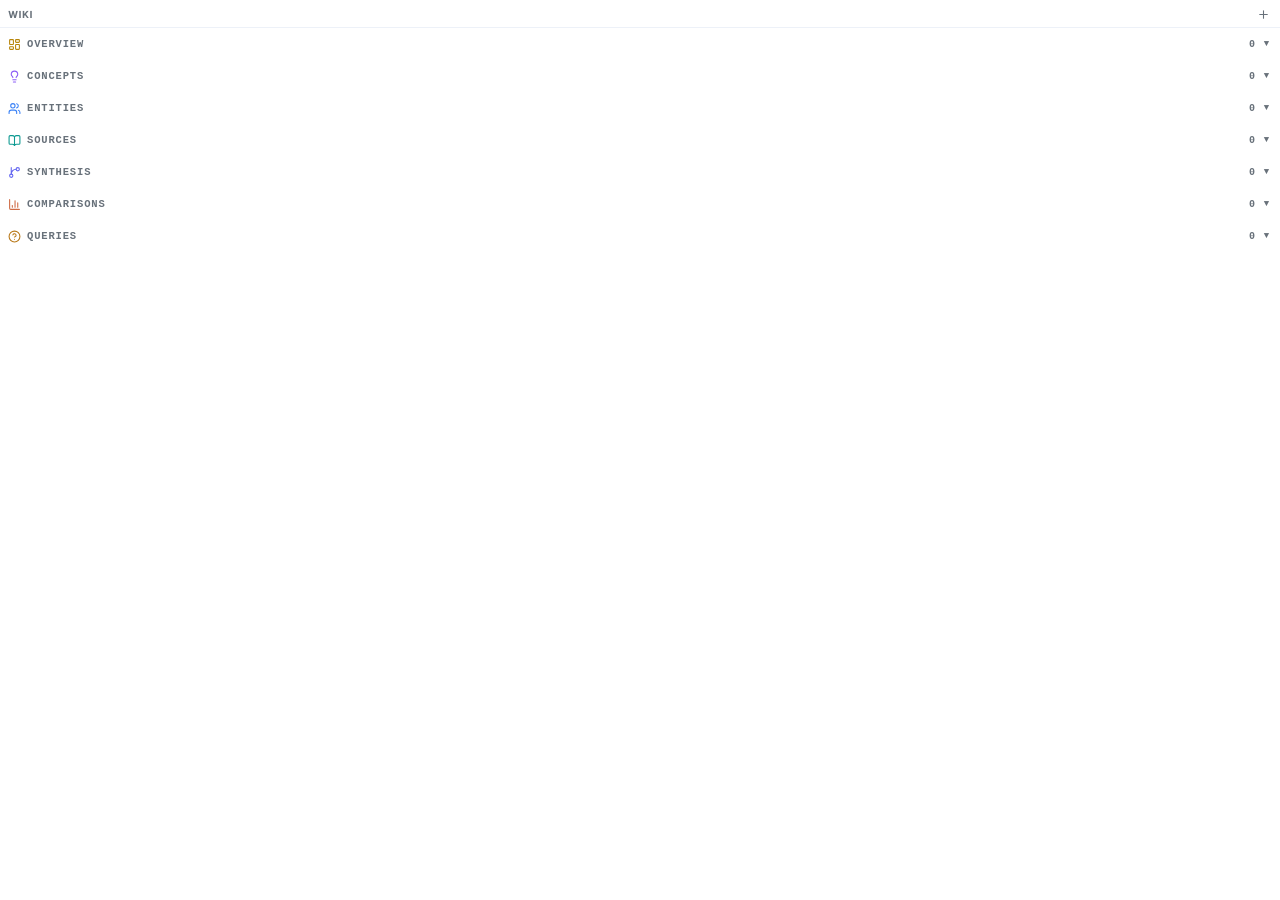
Scenario: NavTree — R7-2 New page modal › shows conflict error on 409 without closing modal
Step 1. Click the button with test id "nav-tree-new-page-btn" → (1264, 14), box 1255,6 -> 1272,23
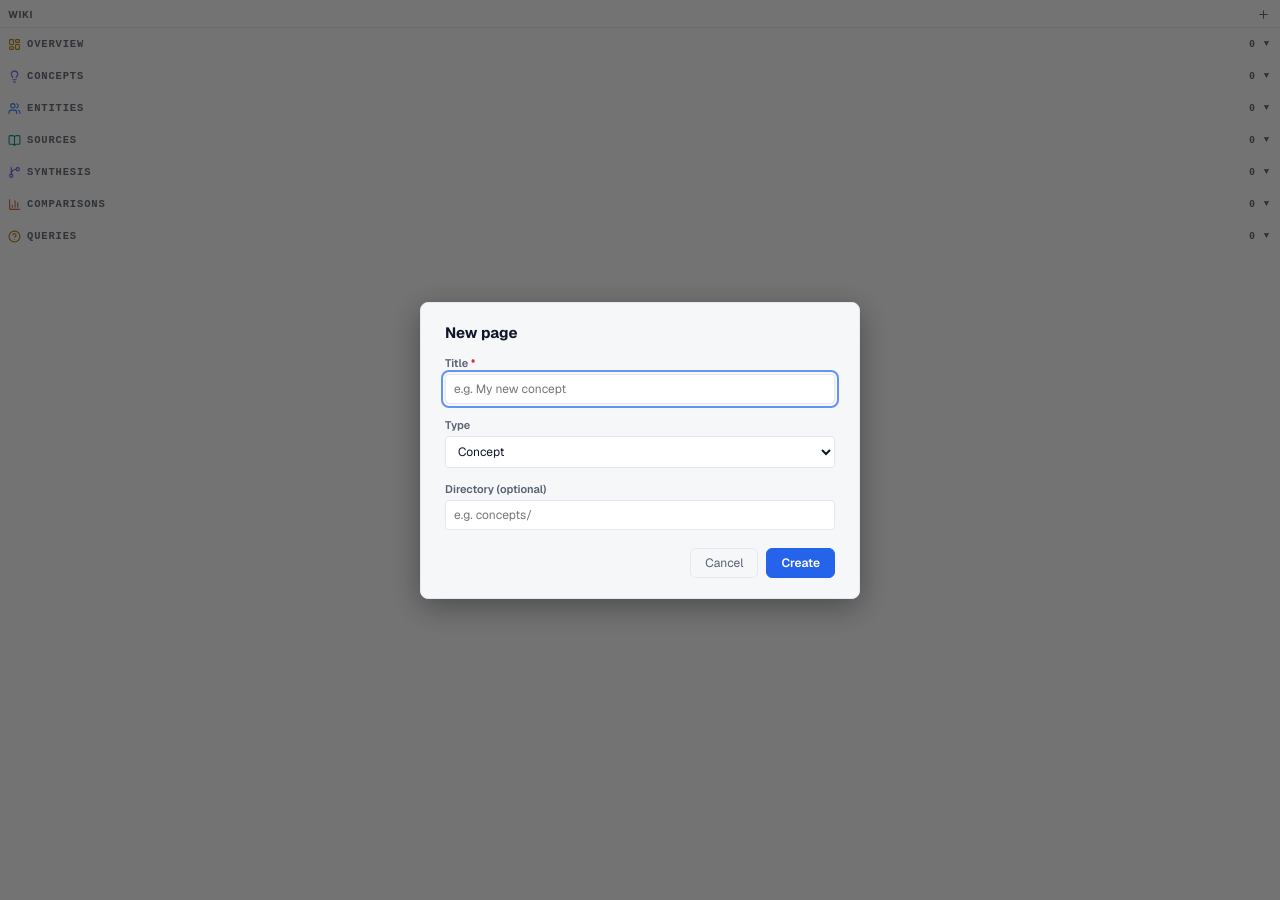
expect the field with placeholder "e.g. My new concept" is shown: met
Step 2. Type "Duplicate page" into the field with placeholder "e.g. My new concept" → (640, 388), box 445,374 -> 835,404
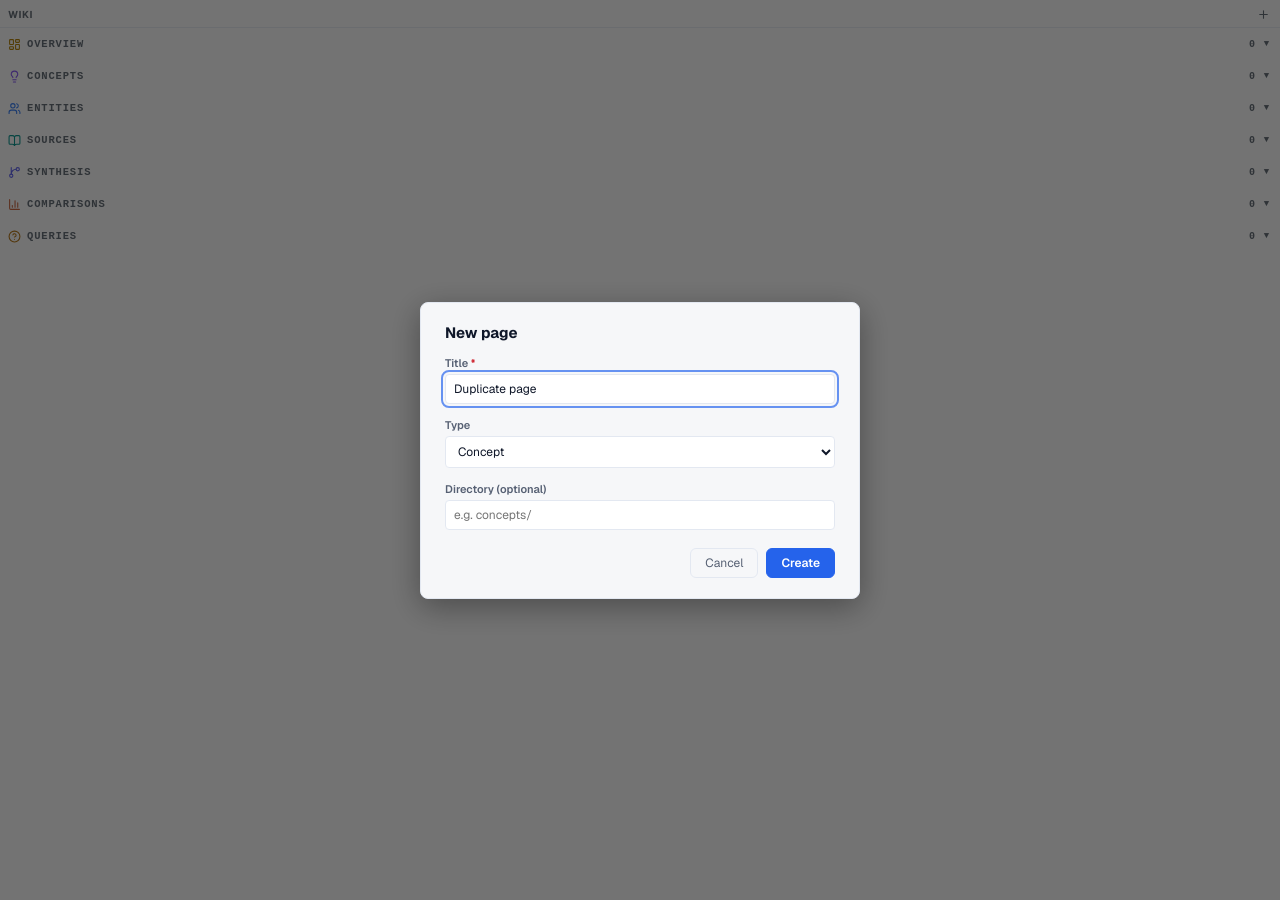
Step 3. Click the button "Create" → (801, 562), box 766,548 -> 835,578
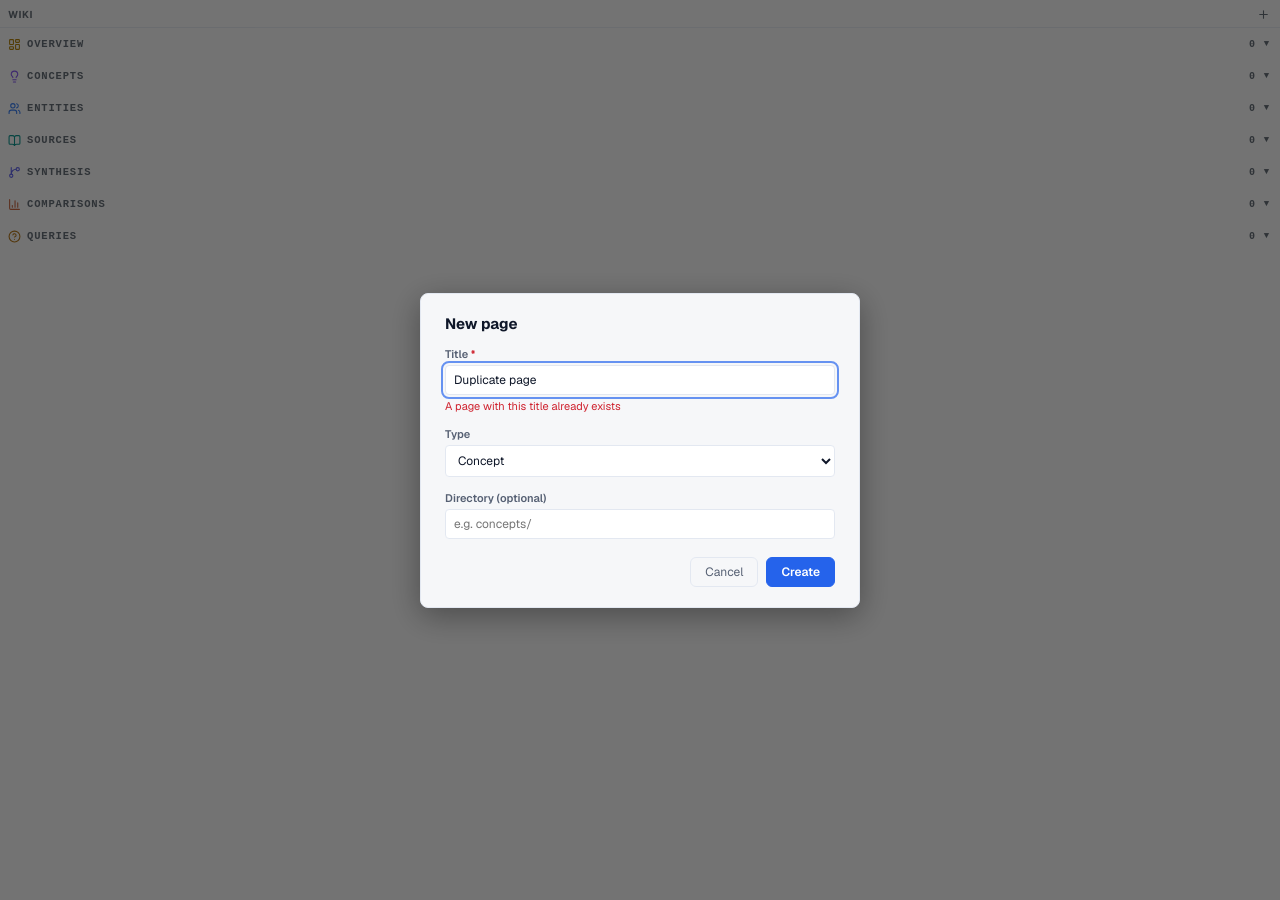
expect the button "Create" is shown: met, box 766,556 -> 835,586
expect the text "A page with this title already exists" is shown: met, box 445,398 -> 621,412
